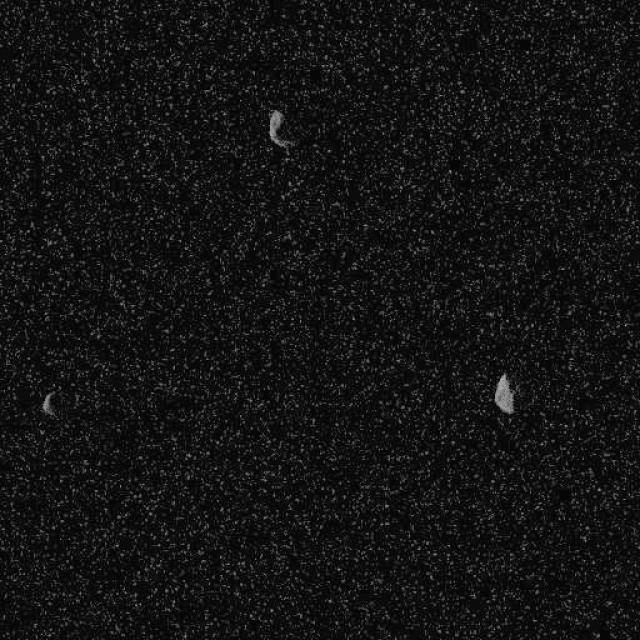D2: (266, 108, 294, 148), (492, 370, 516, 414), (40, 388, 58, 418)
